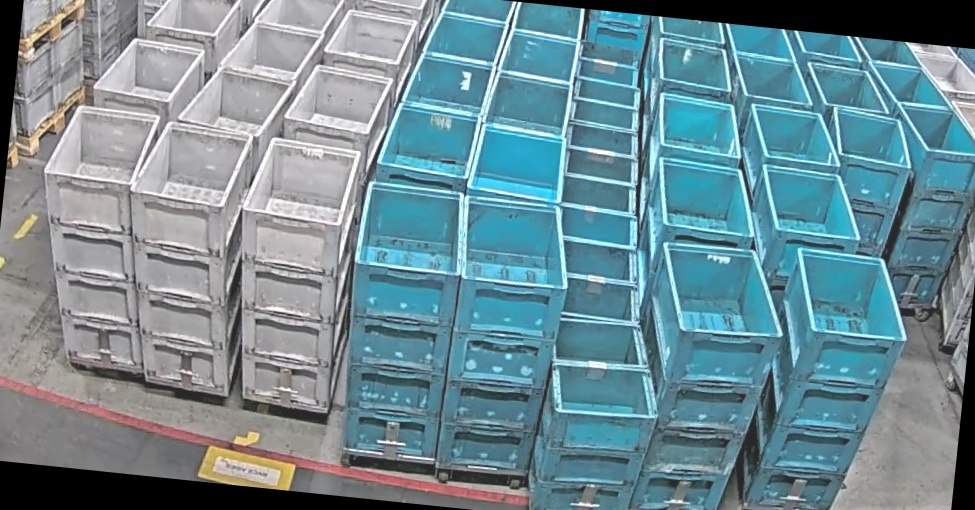4G: (107, 116, 261, 400), (22, 100, 172, 379), (220, 133, 363, 413)
B4: (736, 242, 917, 510), (622, 238, 792, 510), (437, 194, 579, 478), (333, 178, 472, 463), (816, 104, 918, 261), (495, 471, 499, 474)
B8: (527, 315, 669, 510)
